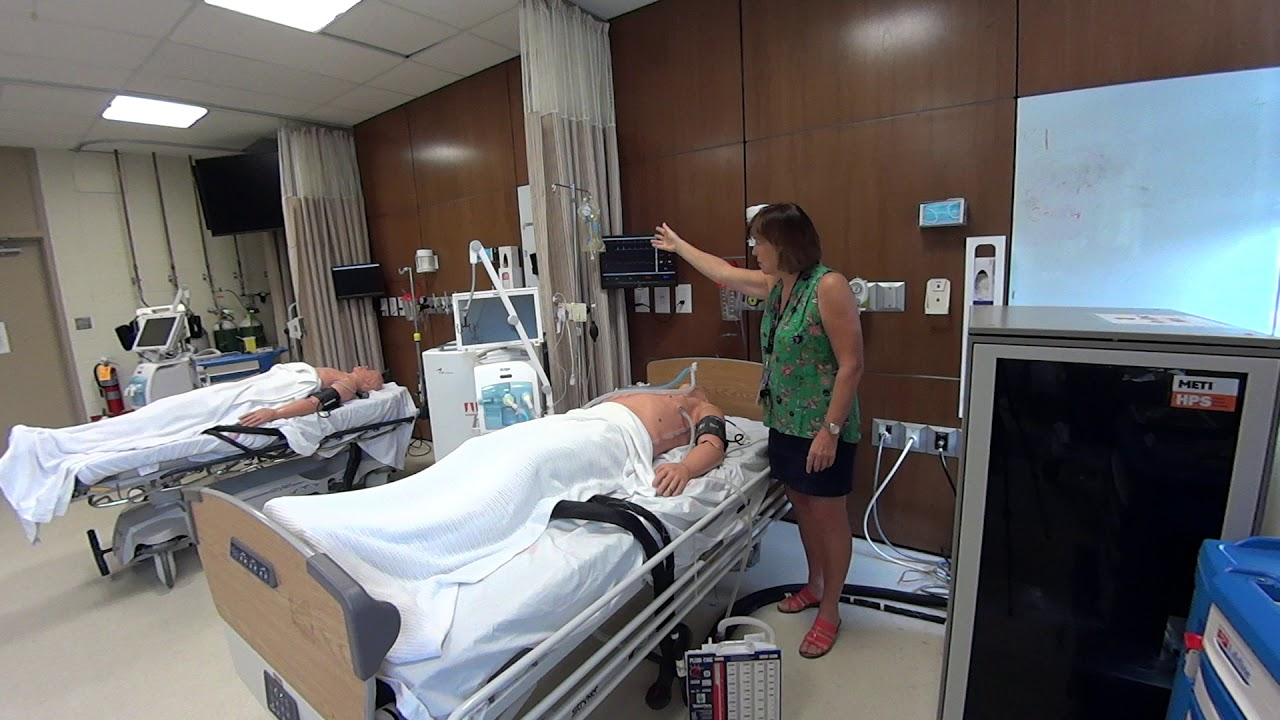TV: (186, 154, 287, 238)
bedrail: (450, 468, 793, 718)
bedside_monitor: (454, 290, 534, 352), (596, 233, 680, 290), (330, 266, 388, 303), (133, 314, 179, 347)
breathing_tube: (503, 360, 703, 417)
curtain: (520, 97, 634, 414), (270, 117, 390, 372)
foot_board: (174, 490, 388, 720)
hospital_bed: (190, 352, 826, 720), (1, 375, 418, 585)
iv_pole: (551, 180, 602, 400), (395, 266, 430, 406)
medical_drawer: (1168, 530, 1278, 720)
patient: (575, 374, 743, 495), (235, 362, 391, 434)
person: (724, 192, 872, 671)
ventilator: (469, 353, 541, 436)
